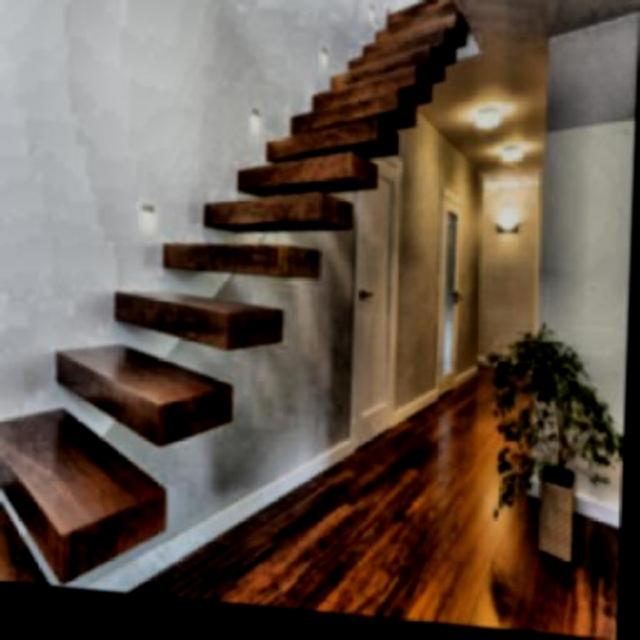stair: (3, 8, 383, 462)
